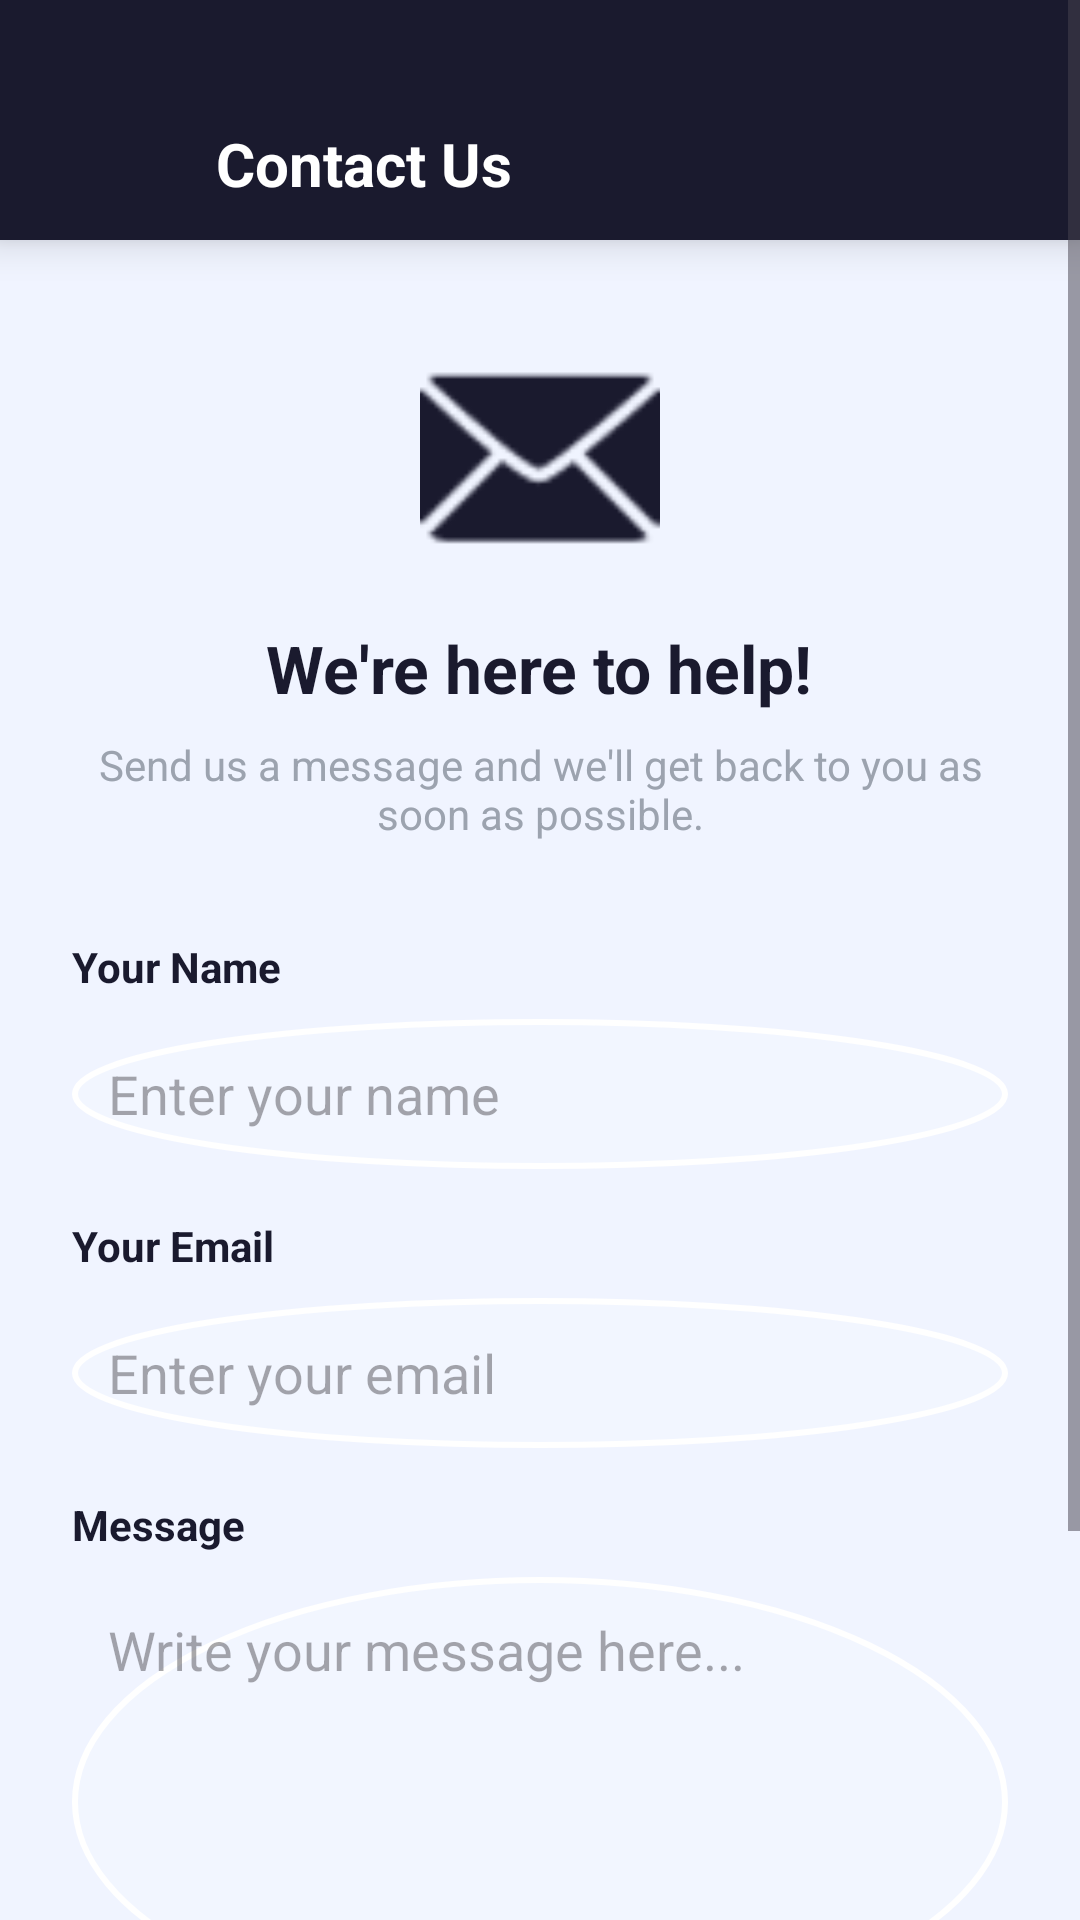

Where to tap for icons on this 1080 x 1920 app screen, as (x=x, y=y):
email: (x=540, y=458)
